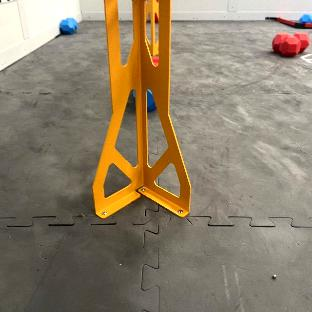Goal: (93, 0, 190, 216)
V5_BLUE: (59, 18, 77, 33), (148, 90, 155, 111), (300, 14, 312, 23)
V5_RED: (273, 33, 309, 56), (152, 56, 158, 64)
